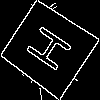H: (24, 23, 82, 79)
